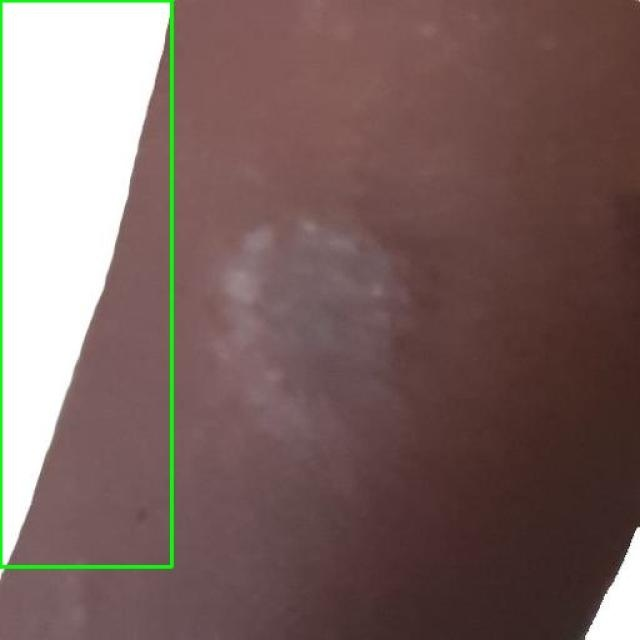Contact Dermatitis: (0, 0, 171, 566)
